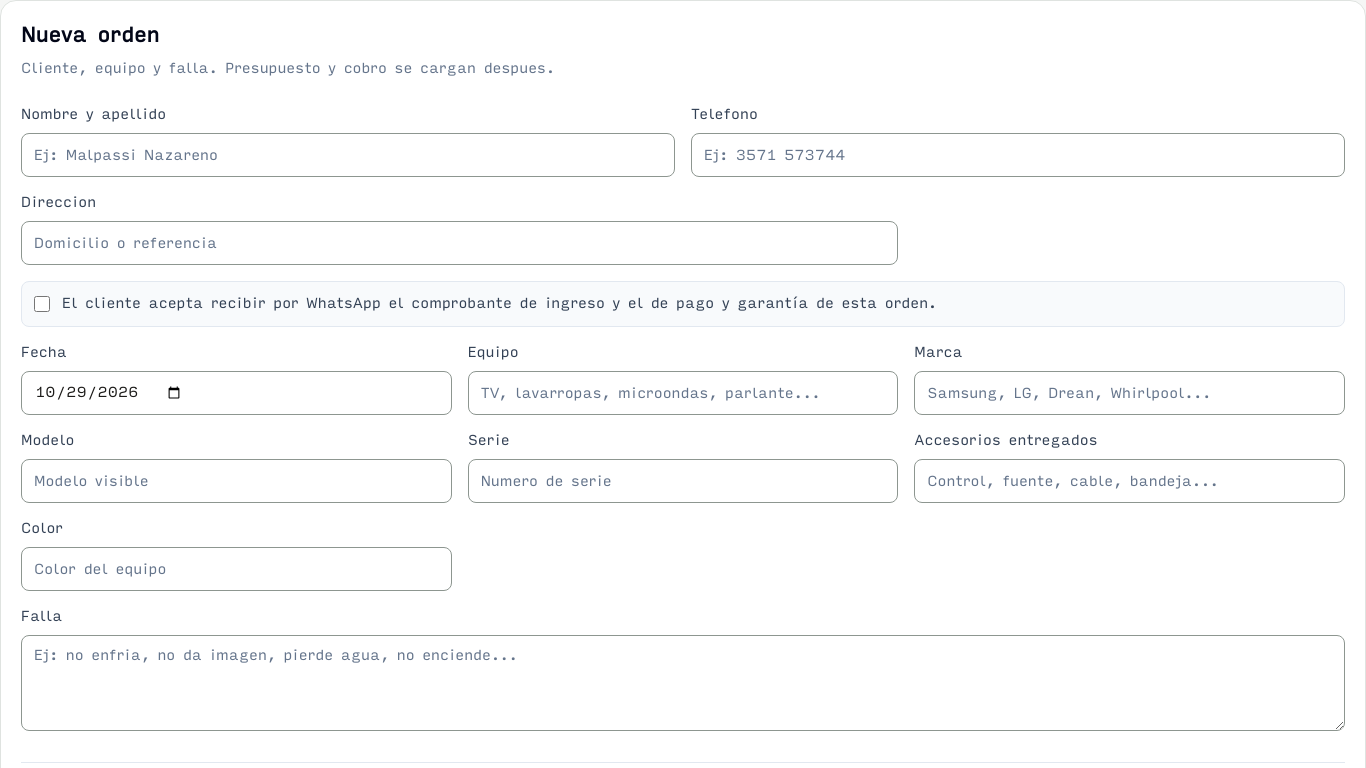
RepairAccessNewOrderWizard › selects the highlighted customer with arrow keys and Enter from Telefono
Type "573744" into the dropdown labelled "Telefono".
click(1018, 155); type("573744")  # box [691,133,1345,177]
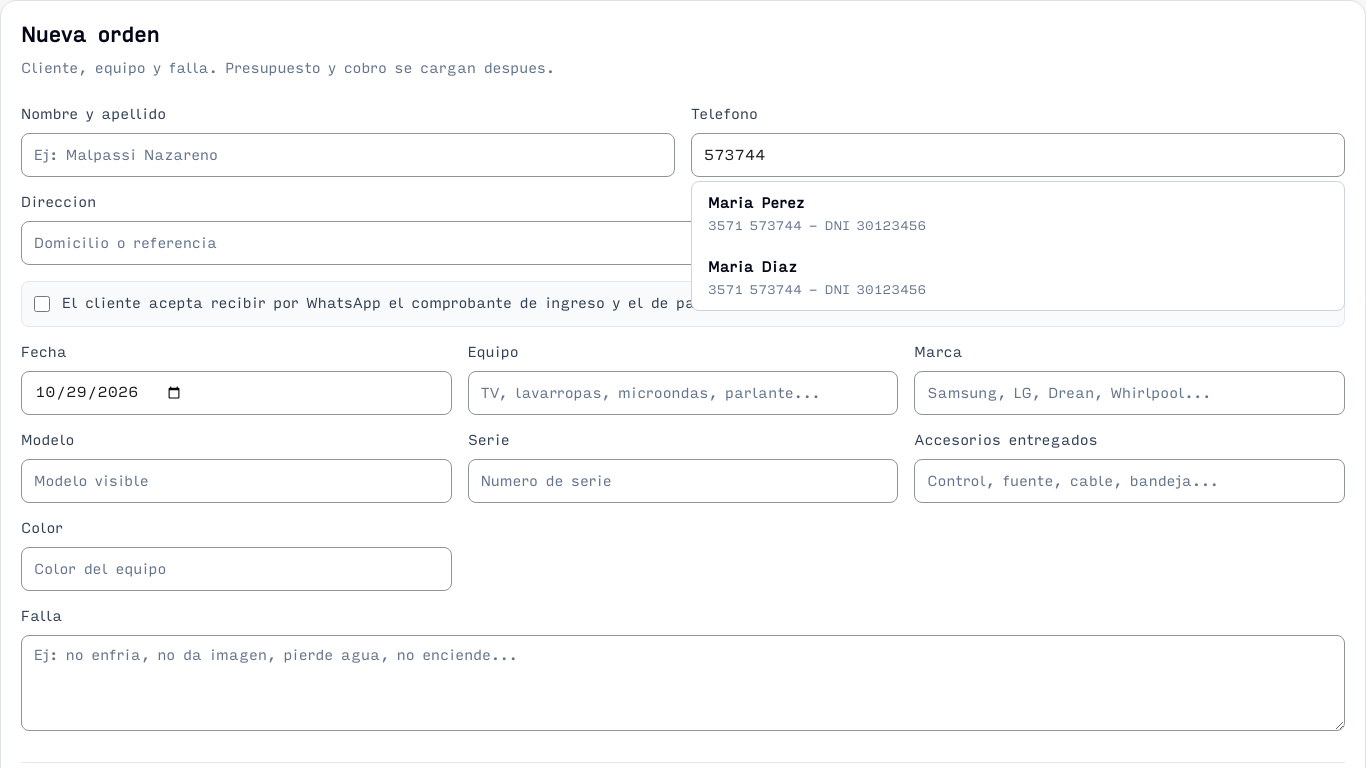
Press ArrowDown in the dropdown labelled "Telefono", box [691,133,1345,177]
Press ArrowDown in the dropdown labelled "Telefono", box [691,133,1345,177]
Expected: the dropdown labelled "Telefono" is expanded
Press Enter in the dropdown labelled "Telefono", box [691,133,1345,177]
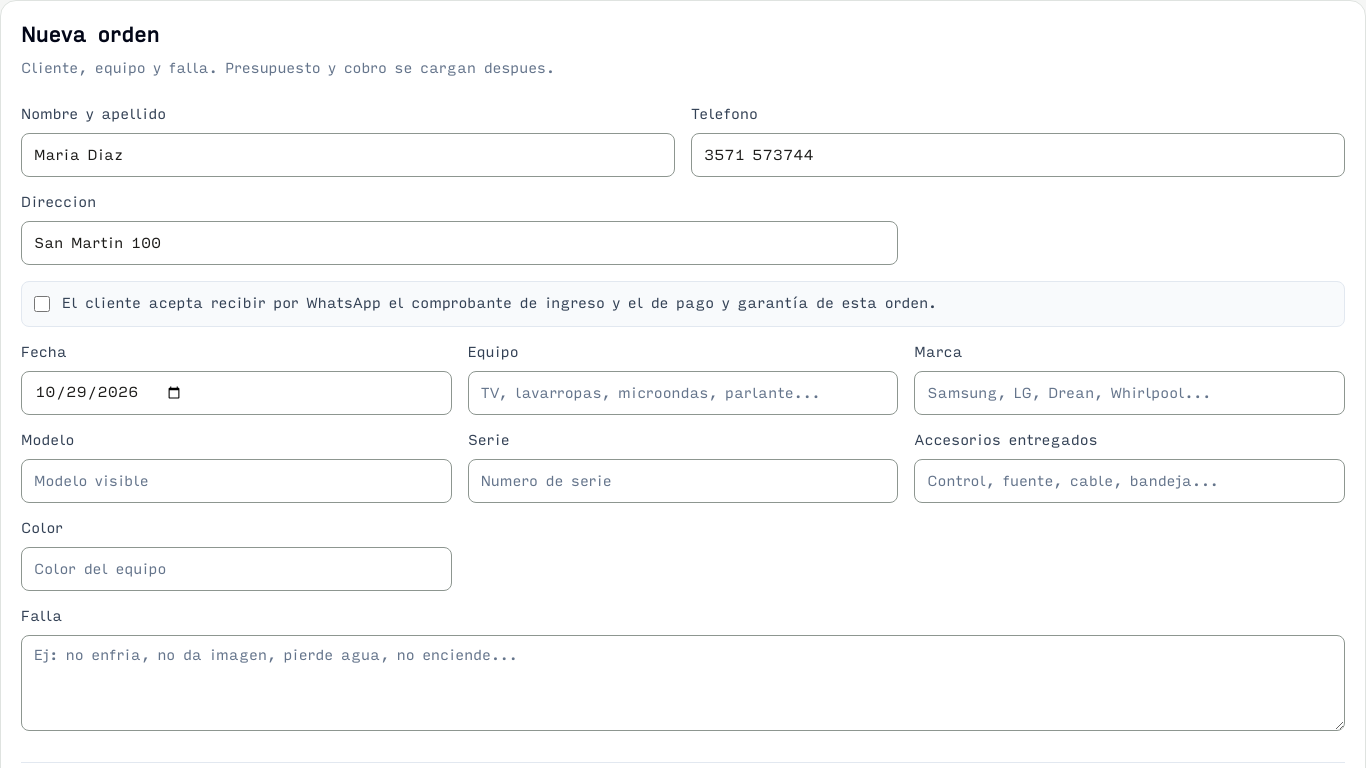
Expected: the dropdown labelled "Telefono" is collapsed, [691,133,1345,177]
